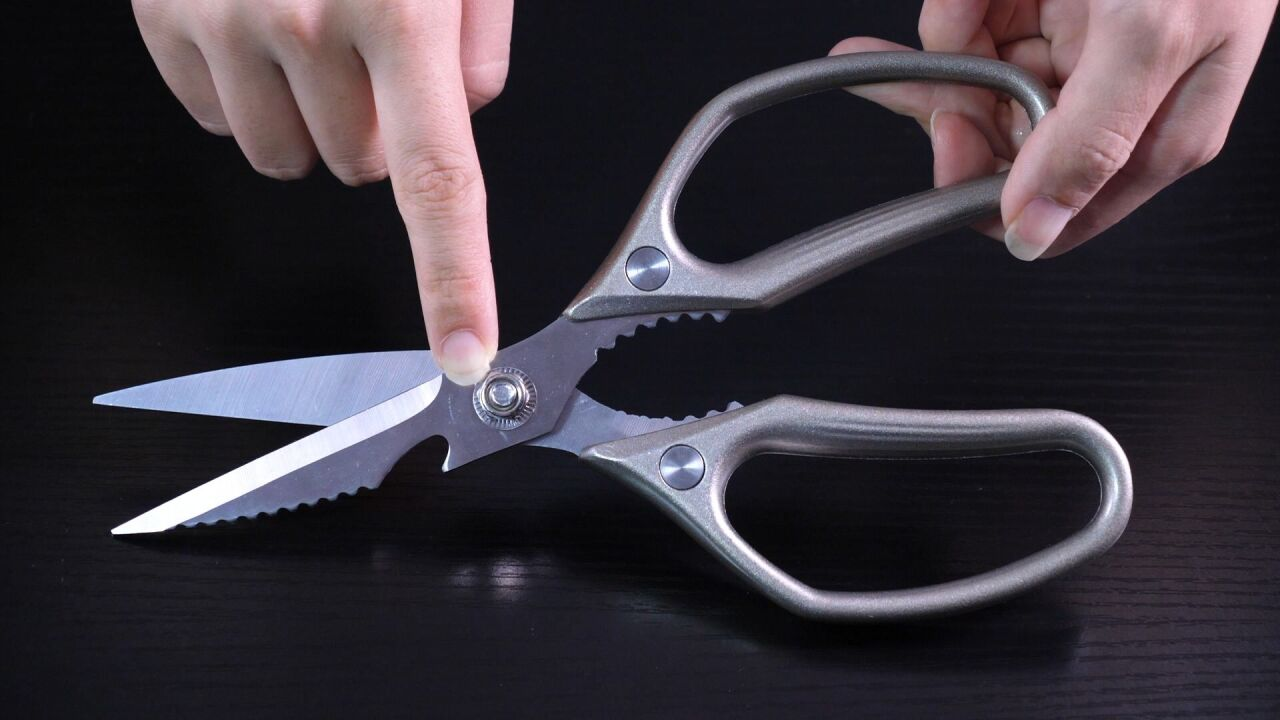scissors: (36, 43, 1148, 629)
